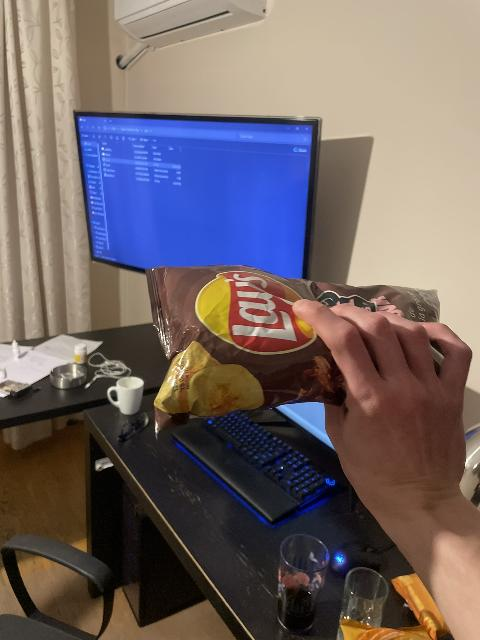Lays Beef Grilled Ribs 125g: (145, 262, 439, 431)
